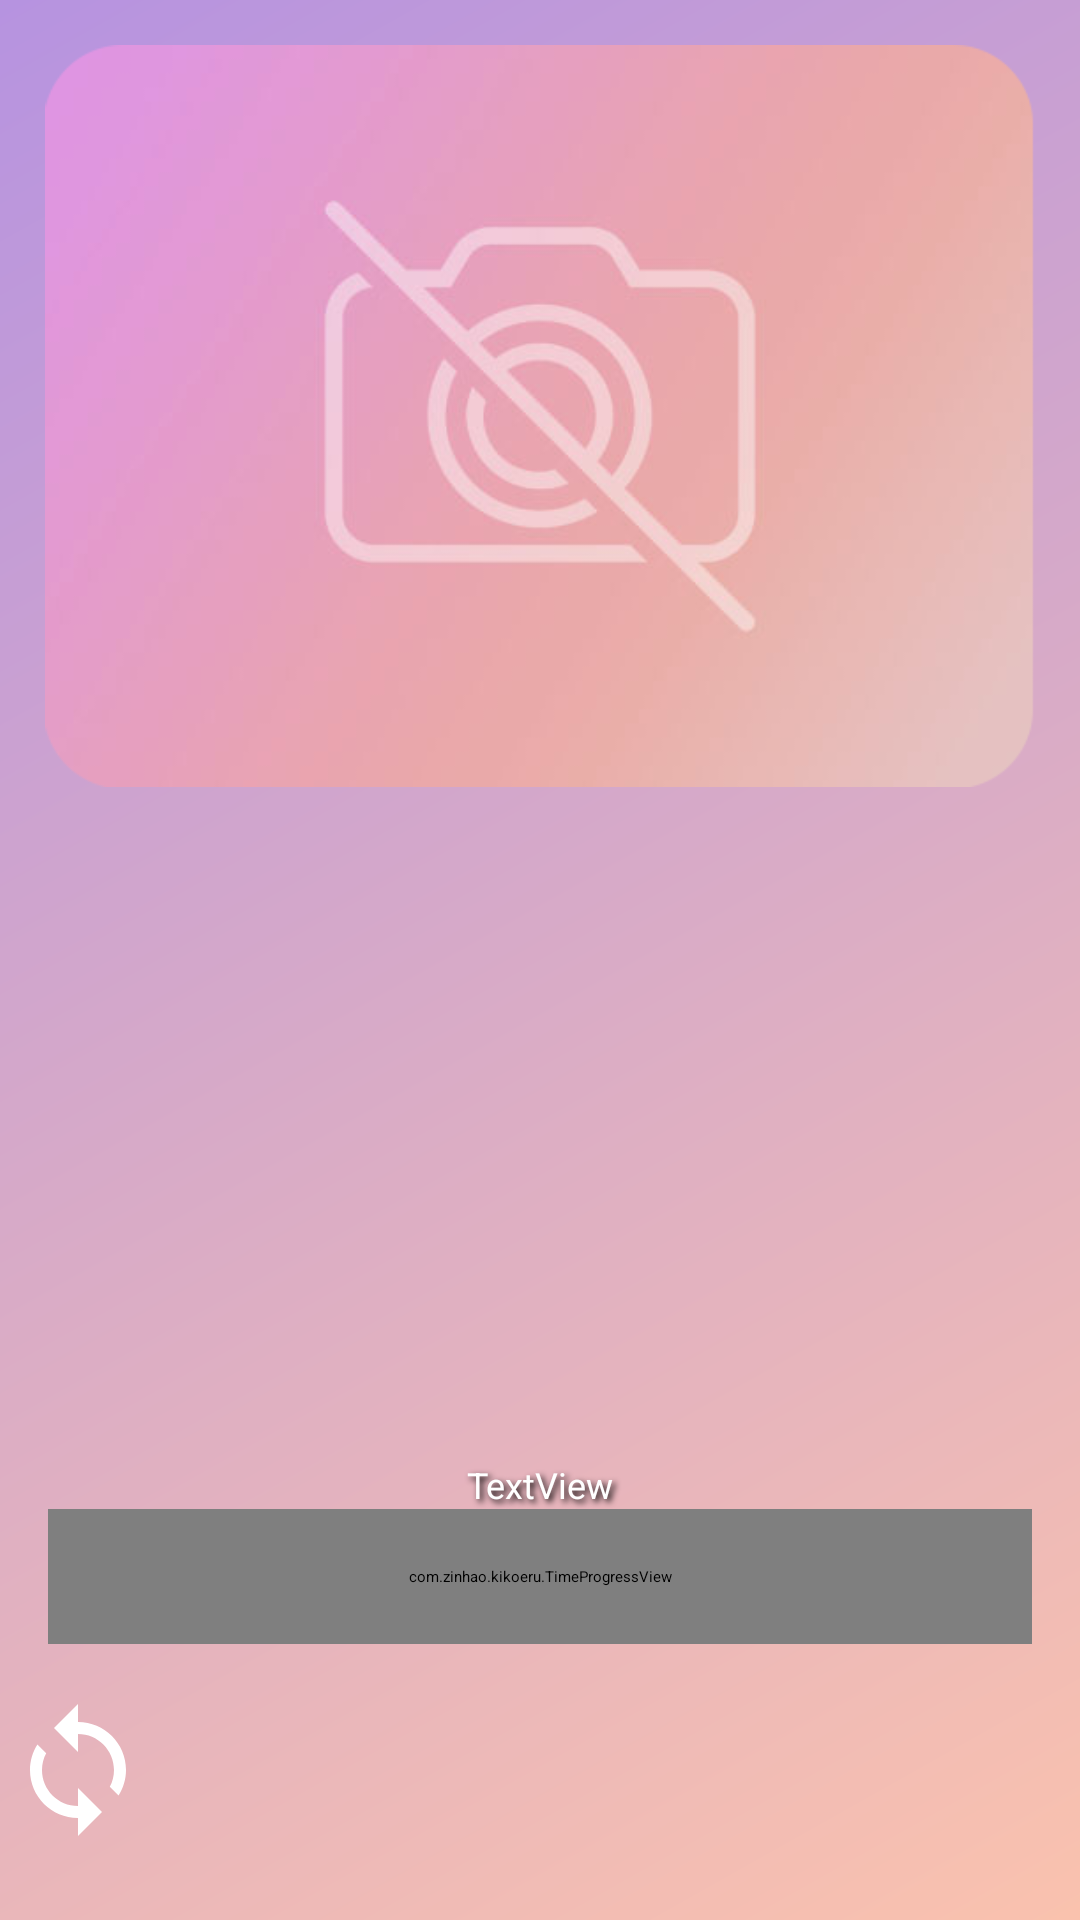

Point at icon controls on the screen. Image size 1080x1920, points as (x,y).
loop: (78,1770)
